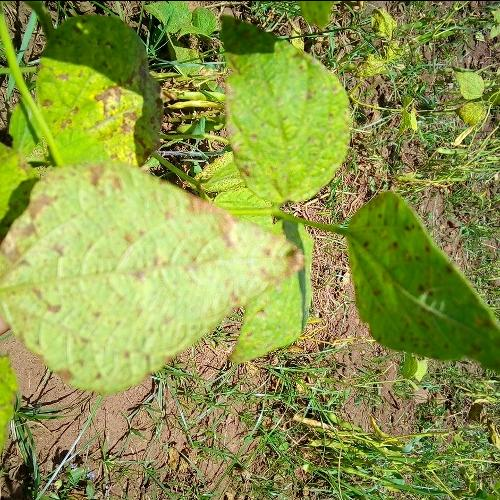mozaik: (26, 24, 190, 364), (356, 173, 486, 397)
